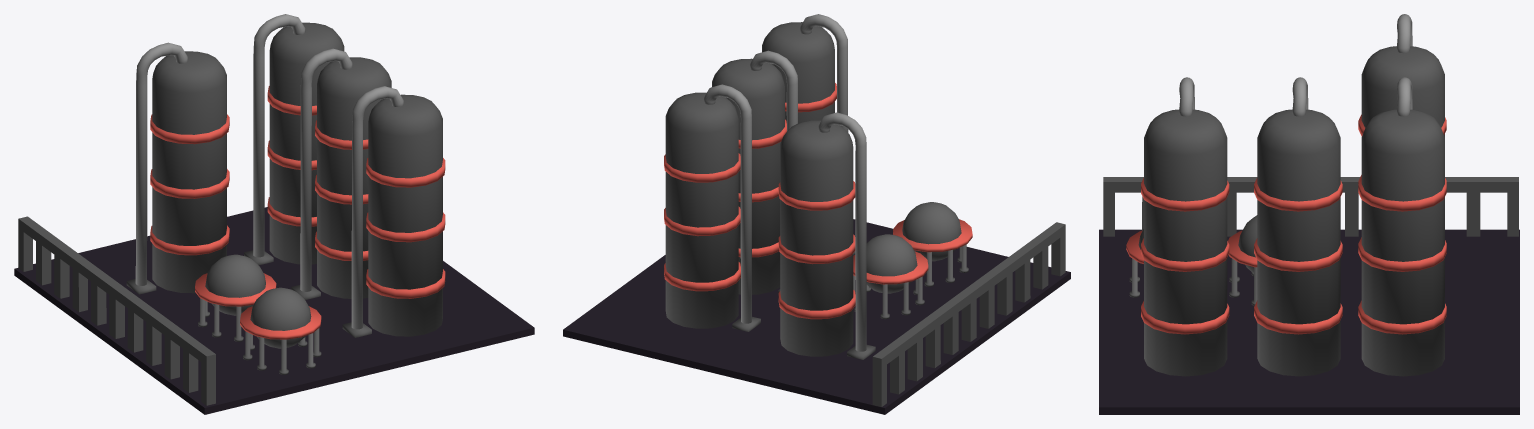
Rendered from Refinaria Convencional.fbx.
The picture shows the model from 3 angles, left to right: view 1: azimuth 30°, elevation 25°; view 2: azimuth 150°, elevation 25°; view 3: azimuth 270°, elevation 25°; orthographic projection. The views are drawn at different scales.
Visible parts, largest first — view 1: Refinaria Convencional; view 2: Refinaria Convencional; view 3: Refinaria Convencional.
Boxes of the visible parts, x1,y1,x2,y2 form: Refinaria Convencional: (14, 14, 534, 414); Refinaria Convencional: (563, 14, 1070, 414); Refinaria Convencional: (1099, 14, 1519, 414).
Size of the model in its own units: 93.03 by 66.7 by 93.03.
